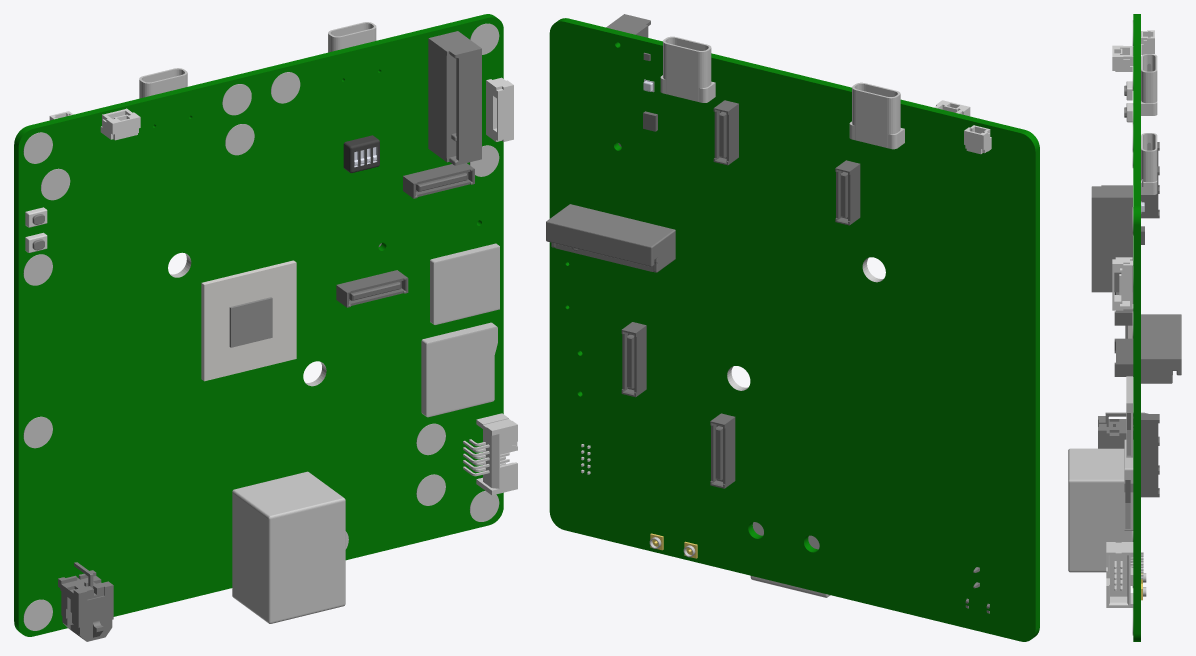
The model's file is f64e4245-navq95v2.glb.
3 views of the same model, side by side, from view 1: azimuth 30°, elevation 25°; view 2: azimuth 150°, elevation 25°; view 3: azimuth 270°, elevation 25° (orthographic). The views are drawn at different scales.
Visible parts, largest first — view 1: pcb, rj45, mimx9596avzxnmc, key_m_m2, sdcard, nanosim, b2b_io, debug, power, console, boot_switches, usbc0 (+2 smaller); view 2: pcb, key_b_m2, b2b_eth, usbc1, usbc0, b2b_csi, b2b_dsicsi, bat; view 3: rj45, pcb, key_m_m2, key_b_m2, debug, b2b_eth, b2b_io, usbc1, usbc0, console, power, sdcard (+4 smaller).
Boxes of the visible parts, <box> form: pcb: <box>14,14,503,636</box>; rj45: <box>232,471,345,623</box>; mimx9596avzxnmc: <box>201,260,296,381</box>; key_m_m2: <box>428,31,481,165</box>; sdcard: <box>421,322,497,417</box>; nanosim: <box>430,243,499,325</box>; b2b_io: <box>336,163,474,307</box>; debug: <box>463,413,517,495</box>; power: <box>58,562,113,641</box>; console: <box>486,77,513,141</box>; boot_switches: <box>343,135,379,173</box>; usbc0: <box>328,22,376,52</box>; pcb: <box>549,18,1039,641</box>; key_b_m2: <box>546,204,675,272</box>; b2b_eth: <box>621,322,735,488</box>; usbc1: <box>849,82,904,149</box>; usbc0: <box>660,36,715,102</box>; b2b_csi: <box>713,100,738,165</box>; b2b_dsicsi: <box>835,160,860,225</box>; bat: <box>964,125,991,154</box>; rj45: <box>1068,448,1132,572</box>; pcb: <box>1132,14,1140,641</box>; key_m_m2: <box>1091,185,1132,292</box>; key_b_m2: <box>1141,314,1181,383</box>; debug: <box>1106,542,1143,607</box>; b2b_eth: <box>1141,414,1159,497</box>; b2b_io: <box>1114,287,1133,376</box>; usbc1: <box>1141,54,1157,115</box>; usbc0: <box>1141,133,1157,194</box>; console: <box>1112,257,1133,310</box>; power: <box>1098,412,1148,448</box>; sdcard: <box>1124,439,1133,530</box>.
Bounding box in the file's own units: 0.1 × 0.1042 × 0.0236.
